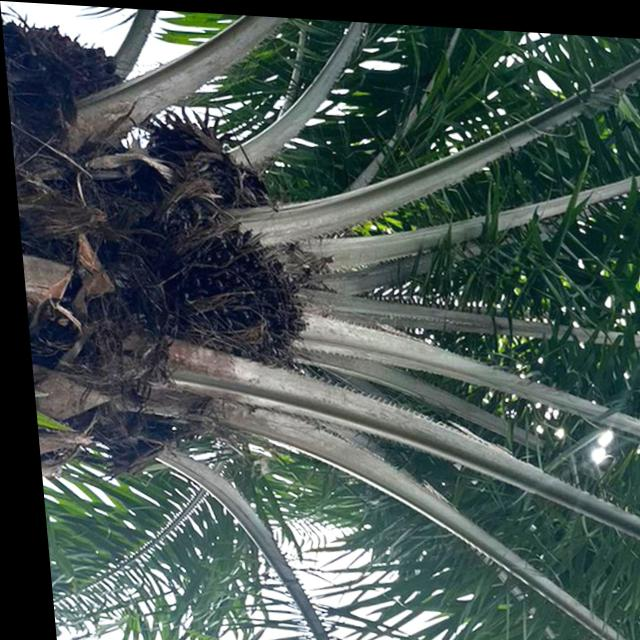almost: (148, 212, 320, 369)
